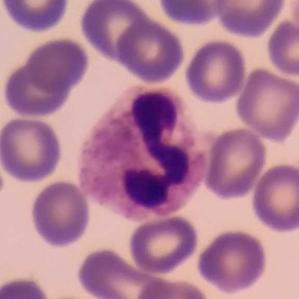Neutrophil: (74, 81, 206, 226)
RBC: (194, 226, 270, 294), (233, 64, 299, 142), (76, 245, 171, 299), (202, 125, 269, 200), (114, 16, 187, 84), (126, 212, 201, 276), (78, 0, 152, 64), (28, 178, 93, 249), (0, 57, 75, 118), (182, 37, 249, 105), (0, 115, 64, 183), (24, 35, 92, 93), (249, 160, 299, 234), (211, 0, 287, 38), (0, 0, 71, 34), (264, 17, 299, 78), (156, 0, 230, 28), (134, 275, 212, 299), (0, 275, 54, 299), (287, 0, 299, 39)
